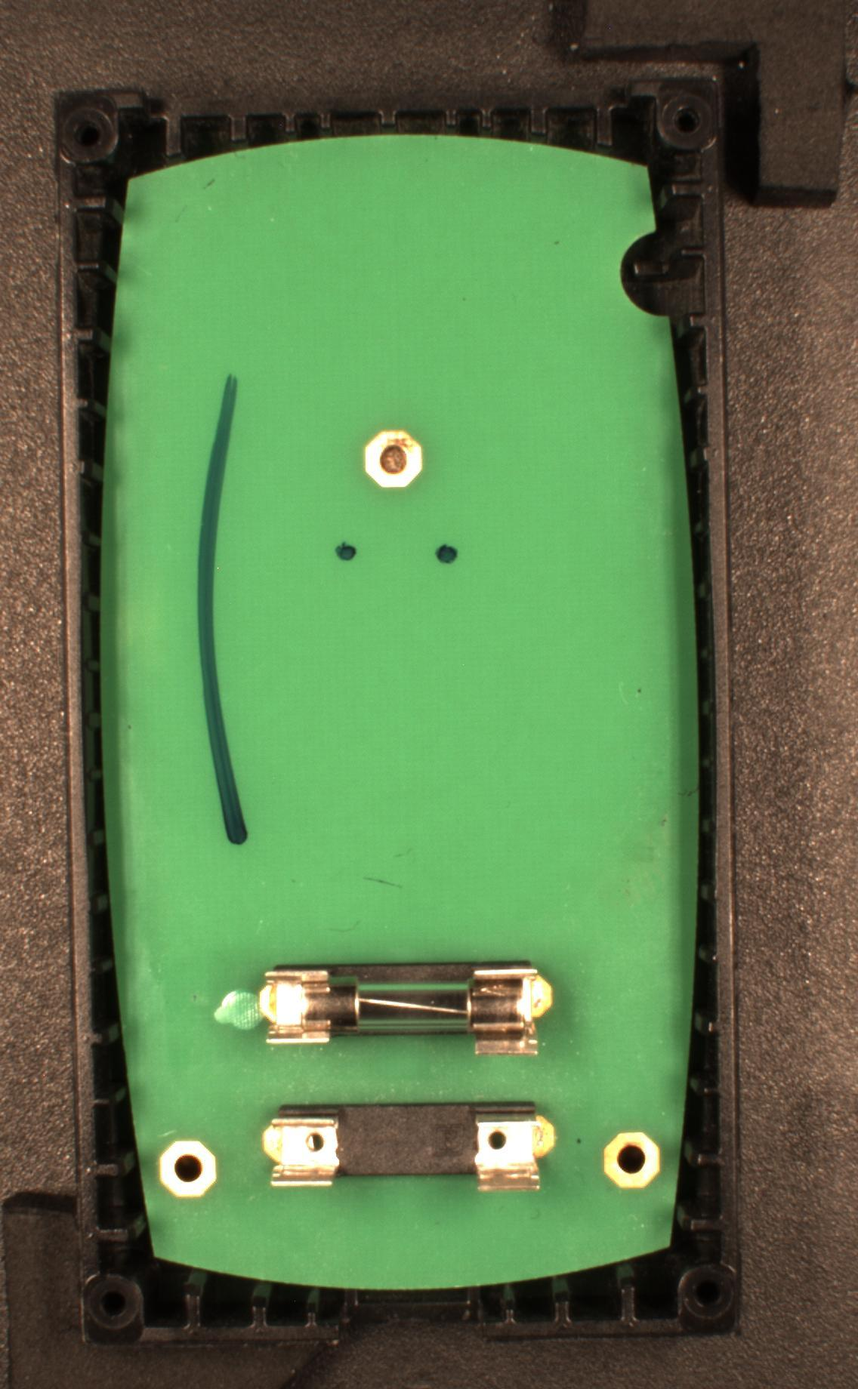Linijsko Ostecene: (193, 373, 251, 846)
Nepostojanje osiguraca: (262, 1101, 556, 1193)
Tockasto Ostecenje: (433, 543, 459, 565), (333, 541, 360, 562)
